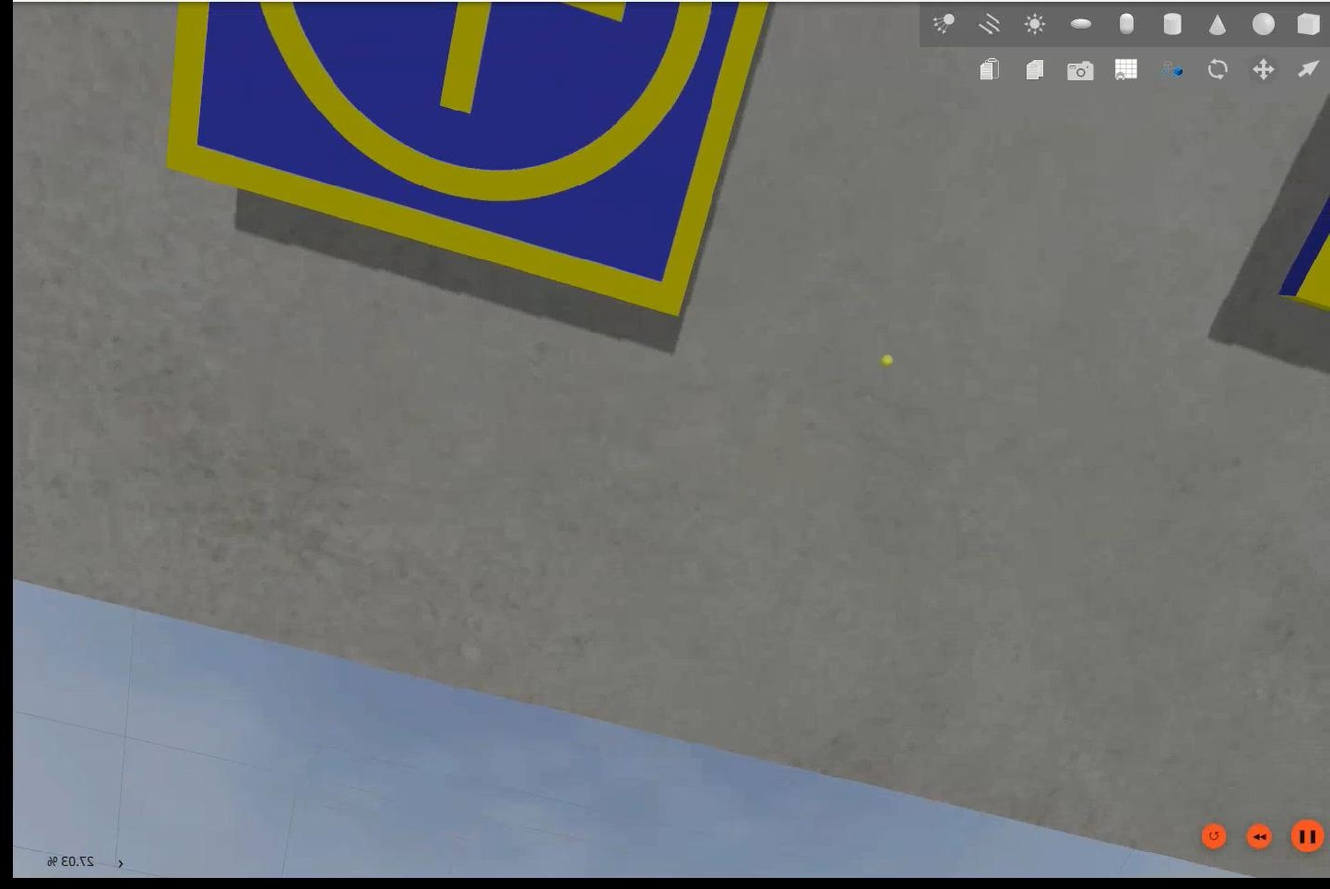small_base: (165, 1, 772, 319)
